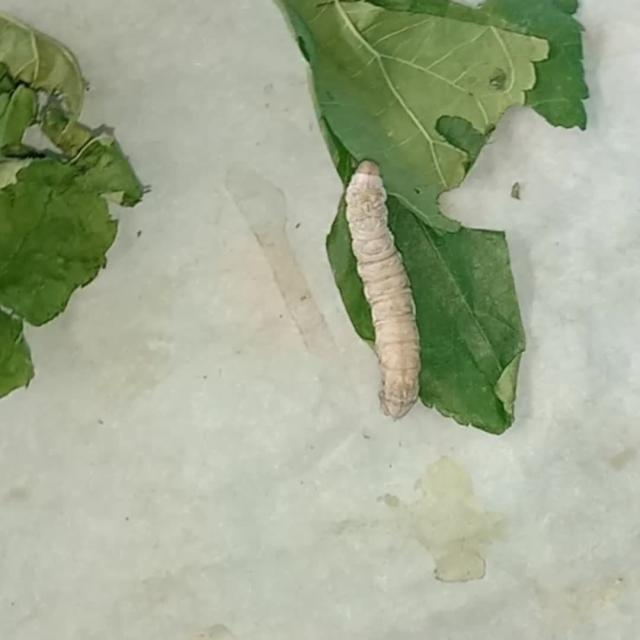Grasserie: (333, 155, 444, 428)
